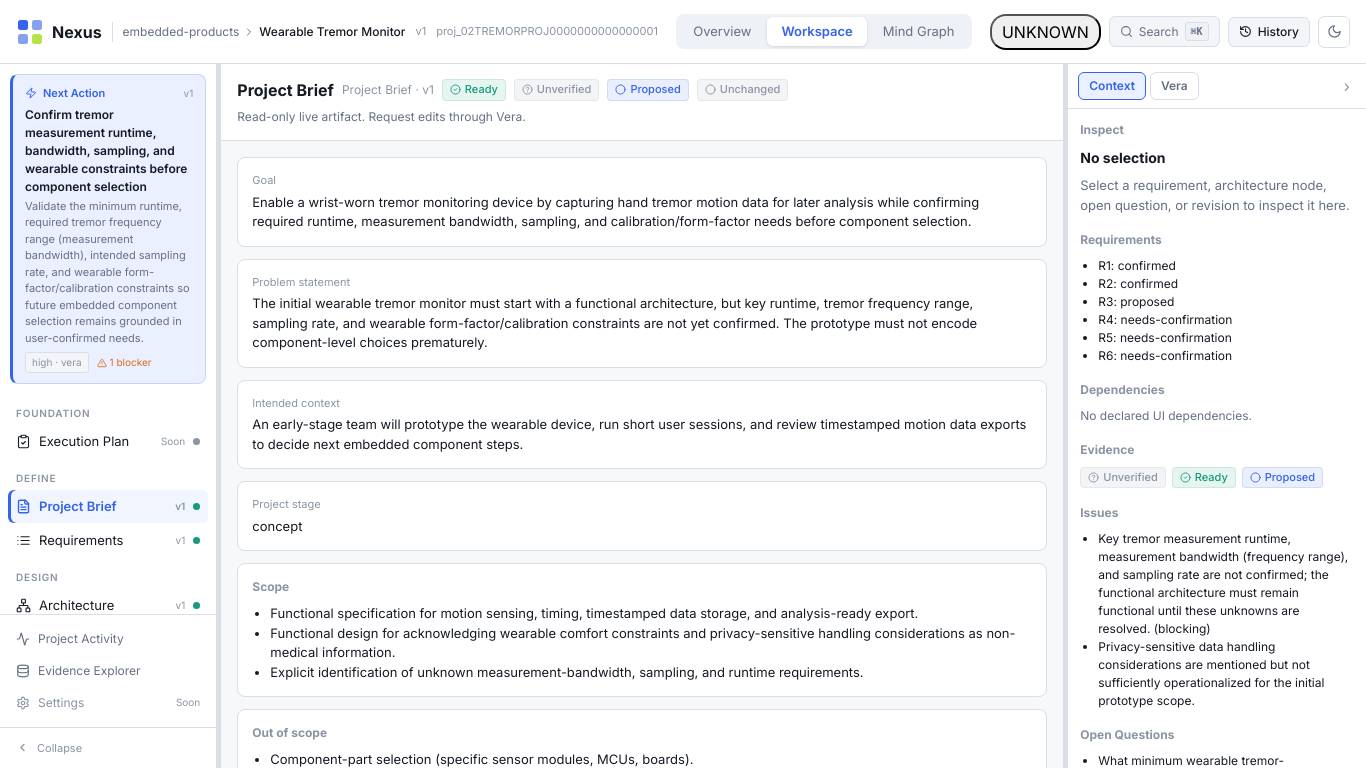
Test case: Execution Plan rail and API integration › offers scaffold reconciliation and retries a failed HTTP 200 acceptance
Click the button "Execution Plan Soon" at (108, 442), box [8,425,208,458]
(page scrolled)
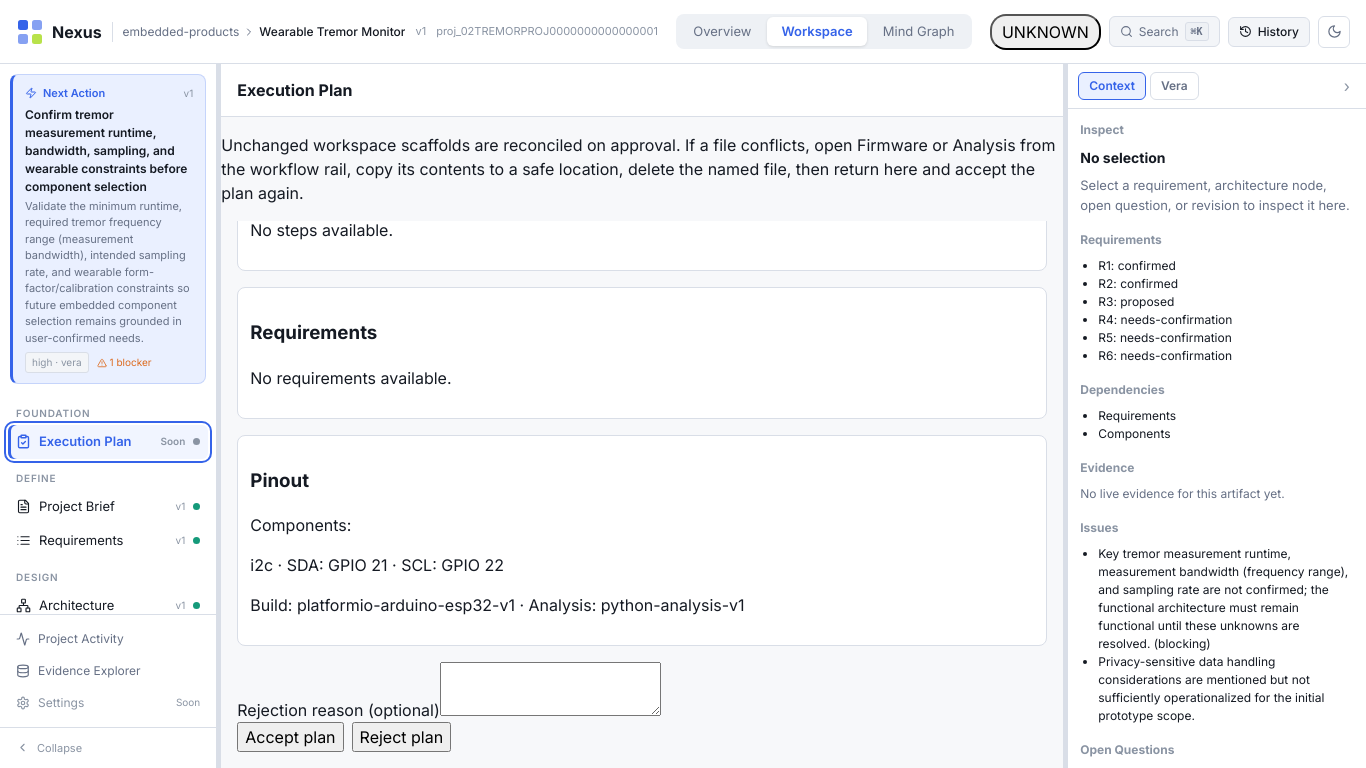
Check: the text "Unchanged workspace scaffolds are reconciled" shows "delete the named file", box [221,135,1055,203]
Click the button "Accept plan" at (290, 737), box [237,722,344,752]
(page scrolled)
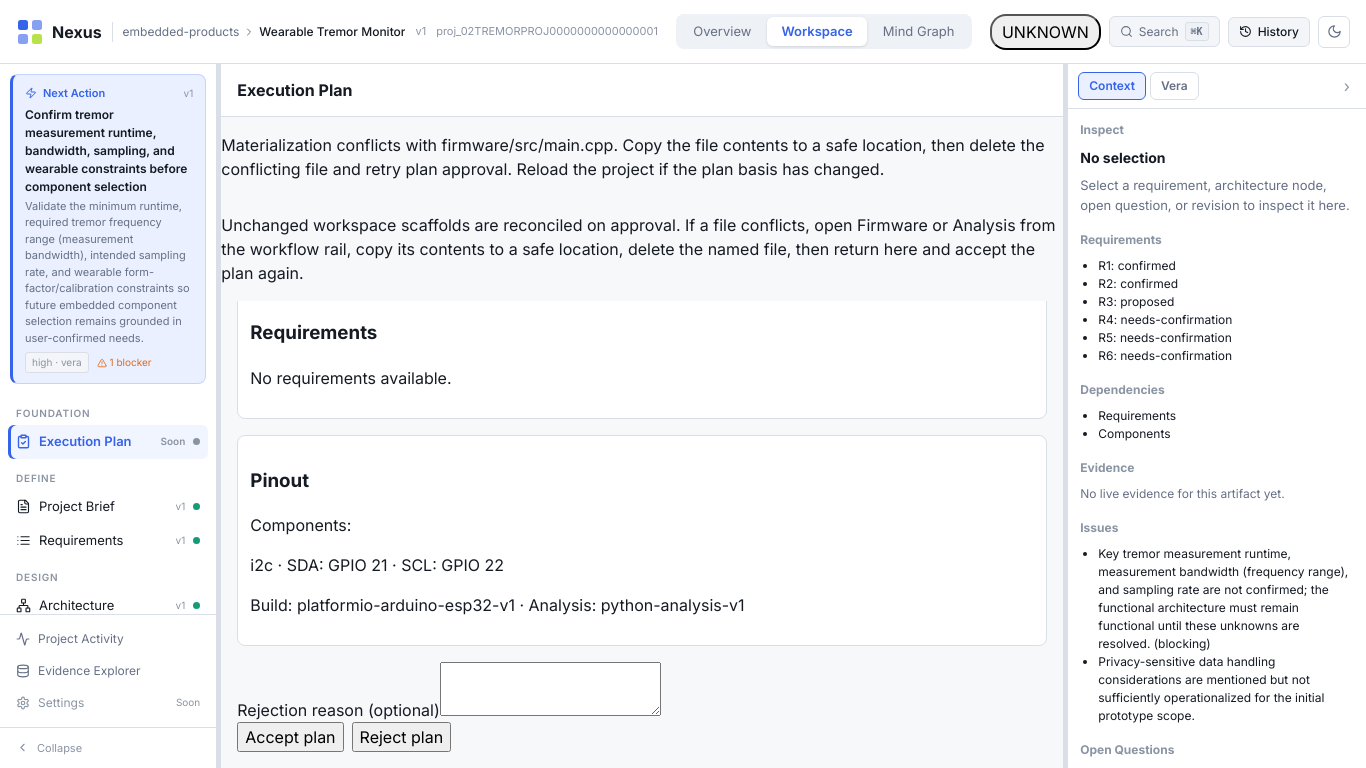
Check: the button "Accept plan" is enabled
Check: the message shows "firmware/src/main.cpp", box [221,135,1044,179]
Click the button "Accept plan" at (290, 737), box [237,722,344,752]
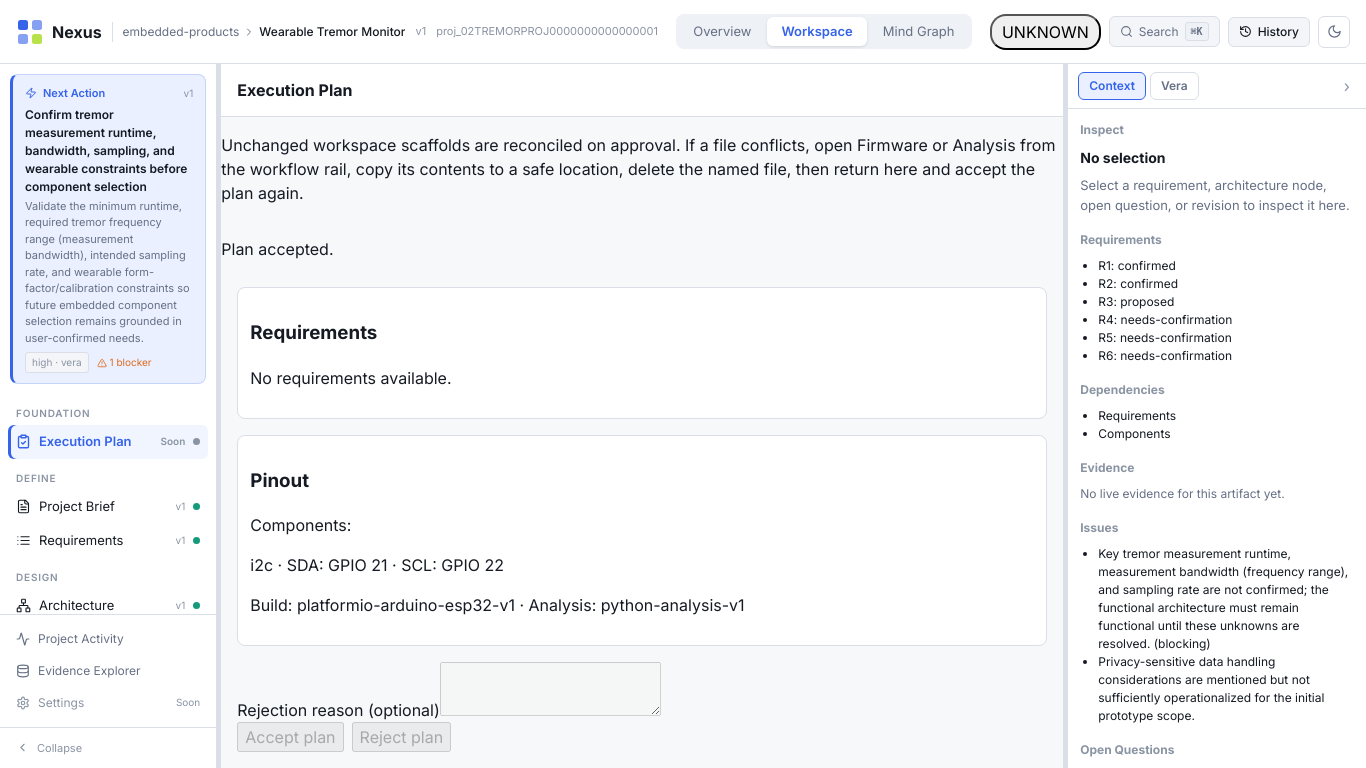
Check: the text "Plan accepted." is shown, box [221,239,334,259]
